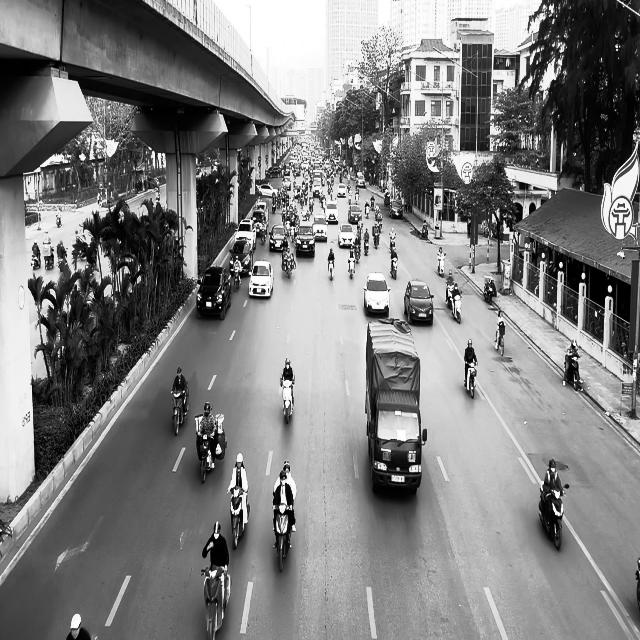car: (196, 265, 232, 320), (404, 279, 434, 325), (363, 271, 391, 316), (249, 260, 274, 298), (229, 239, 253, 275), (295, 223, 316, 257), (338, 223, 356, 248), (269, 224, 286, 250), (312, 215, 328, 241), (324, 200, 340, 223), (389, 199, 403, 219), (348, 204, 362, 223), (337, 184, 347, 196)
motorbike: (200, 565, 232, 639), (538, 480, 570, 550), (195, 414, 217, 484), (273, 500, 294, 572), (229, 486, 250, 549), (171, 382, 189, 436), (563, 355, 583, 391), (281, 376, 295, 424), (464, 361, 478, 398), (452, 290, 463, 324), (484, 276, 495, 304), (495, 324, 504, 356), (446, 281, 456, 309), (390, 248, 398, 280), (348, 251, 356, 279), (32, 247, 42, 269), (437, 253, 446, 277), (233, 266, 242, 290), (328, 258, 335, 280), (373, 229, 381, 248)
truck: (365, 317, 428, 494)
